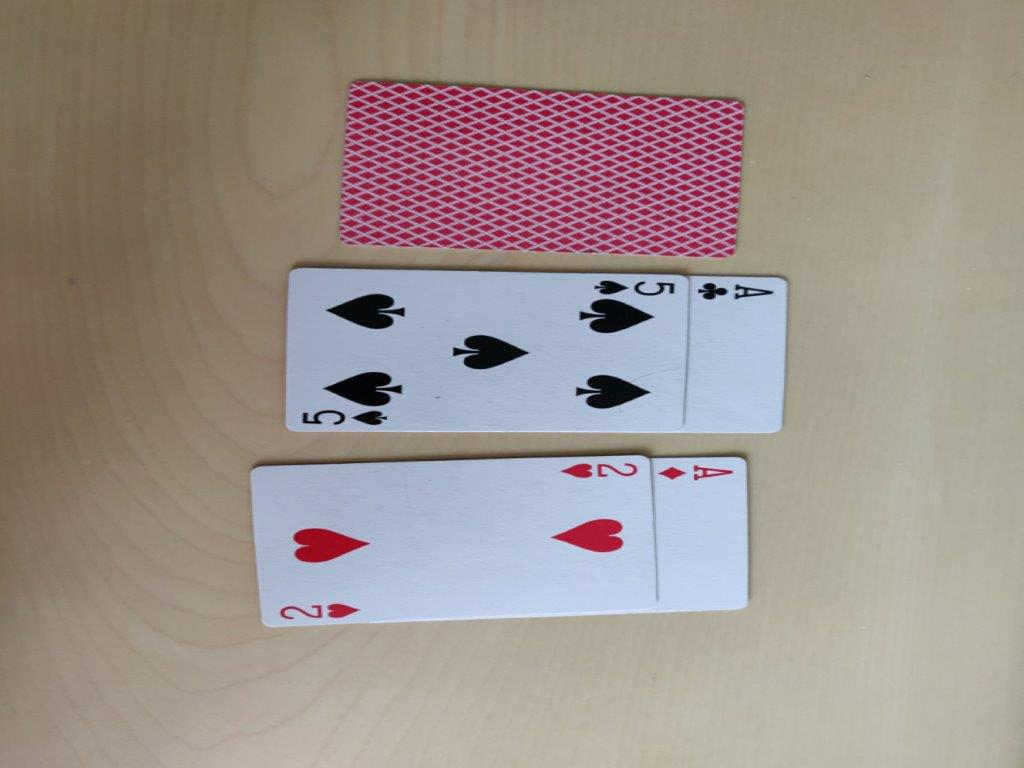2H: (251, 458, 655, 625)
5S: (288, 267, 687, 432)
AC: (688, 274, 784, 434)
AD: (652, 450, 751, 610)
BACK: (336, 80, 741, 259)
